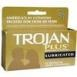grozi_101: (2, 0, 77, 70)
